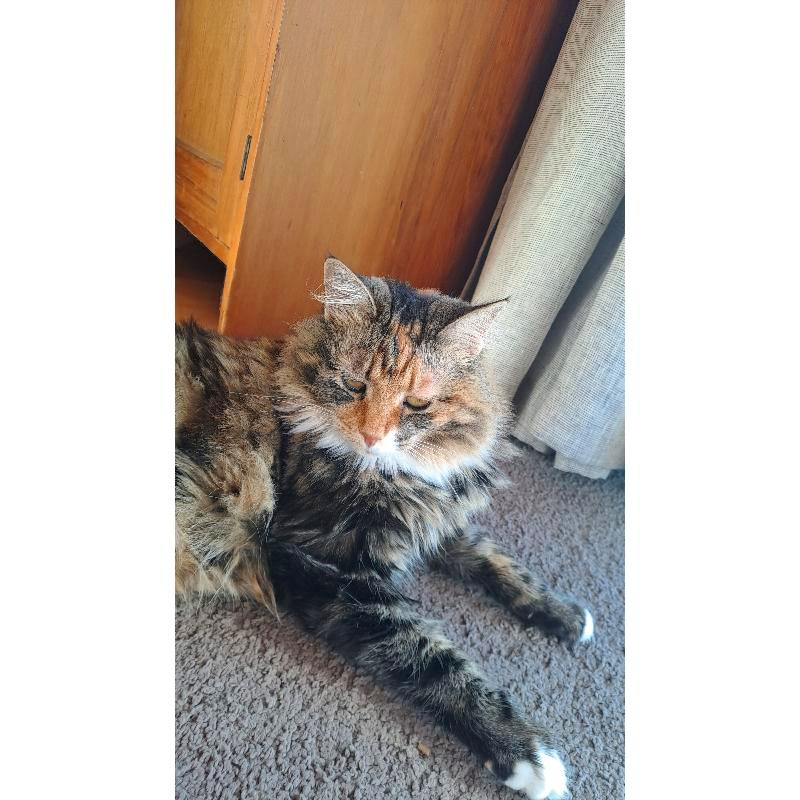red: (176, 254, 598, 799)
